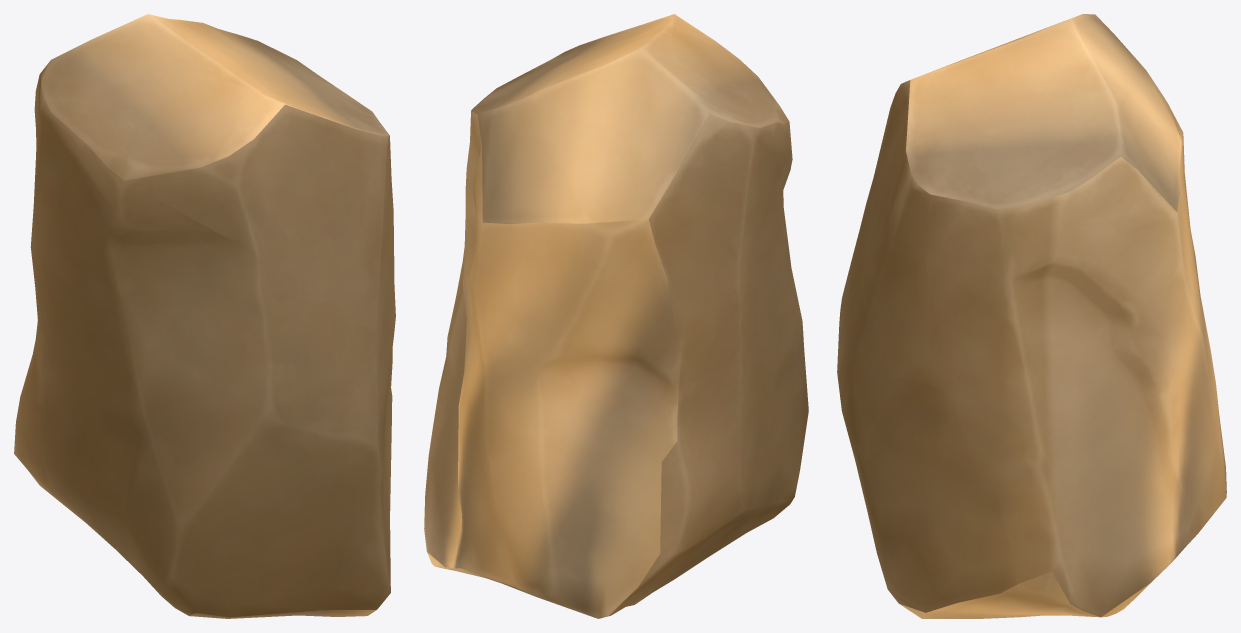
File: SM_Rock_04.fbx
The picture shows the model from 3 angles, left to right: view 1: azimuth 30°, elevation 25°; view 2: azimuth 150°, elevation 25°; view 3: azimuth 270°, elevation 25°; orthographic projection. The views are drawn at different scales.
Visible parts, largest first — view 1: SM_Rock_04_LOD0; view 2: SM_Rock_04_LOD0; view 3: SM_Rock_04_LOD0.
Boxes of the visible parts, x1,y1,x2,y2 form: SM_Rock_04_LOD0: (14, 14, 395, 618); SM_Rock_04_LOD0: (424, 14, 808, 618); SM_Rock_04_LOD0: (837, 14, 1226, 618).
Size of the model in its own units: 141 by 154 by 235.
